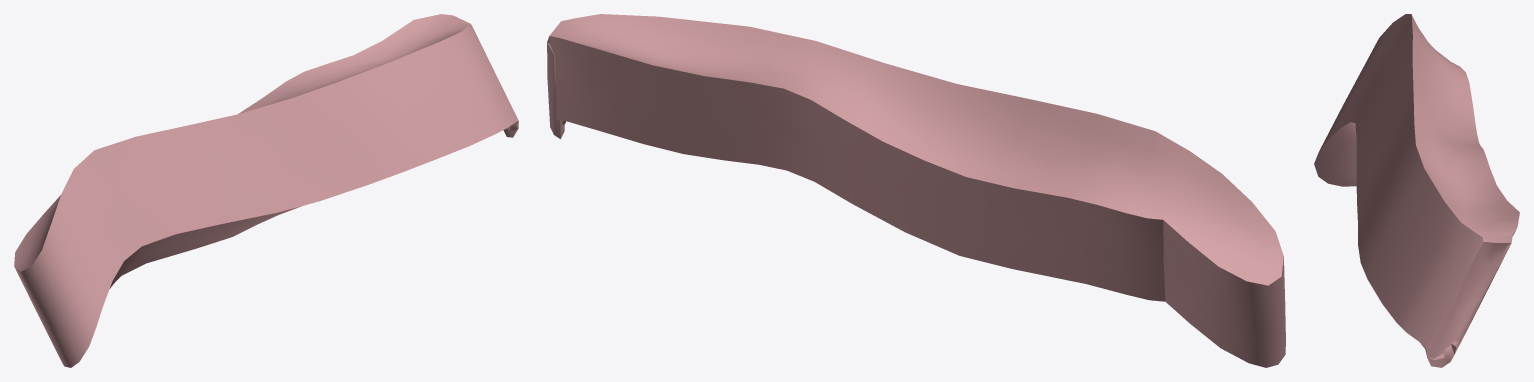
Rendered from fma275417_mm3760m.glb.
The picture shows the model from 3 angles, left to right: view 1: azimuth 30°, elevation 25°; view 2: azimuth 150°, elevation 25°; view 3: azimuth 270°, elevation 25°; orthographic projection. The views are drawn at different scales.
Parts seen in each view (by area): view 1: FMA275417_MM3760M; view 2: FMA275417_MM3760M; view 3: FMA275417_MM3760M.
Part boxes in pixels (x1,y1,x2,y2): FMA275417_MM3760M: (14,14,518,367); FMA275417_MM3760M: (547,14,1285,367); FMA275417_MM3760M: (1314,14,1519,367).
Bounding box in the file's own units: 0.028 × 0.00984 × 0.00846.
